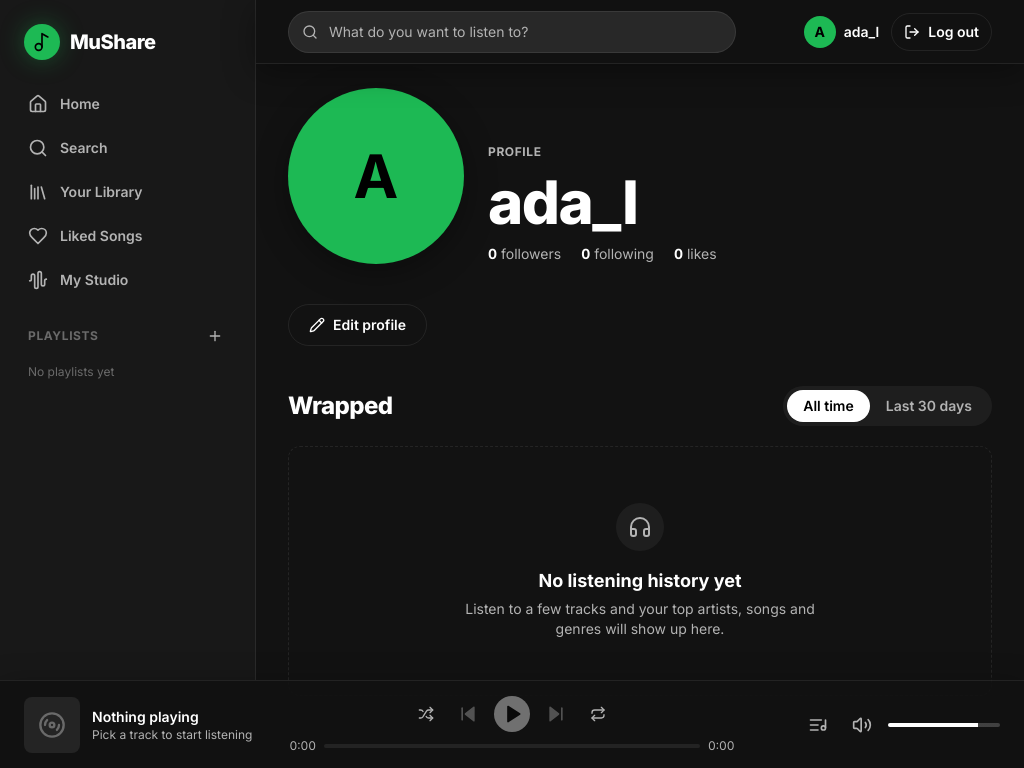
Scenario: profile page › edits bio and picture, and updates the top bar avatar
Click the button "Edit profile" at (358, 325), box [288,304,427,346]
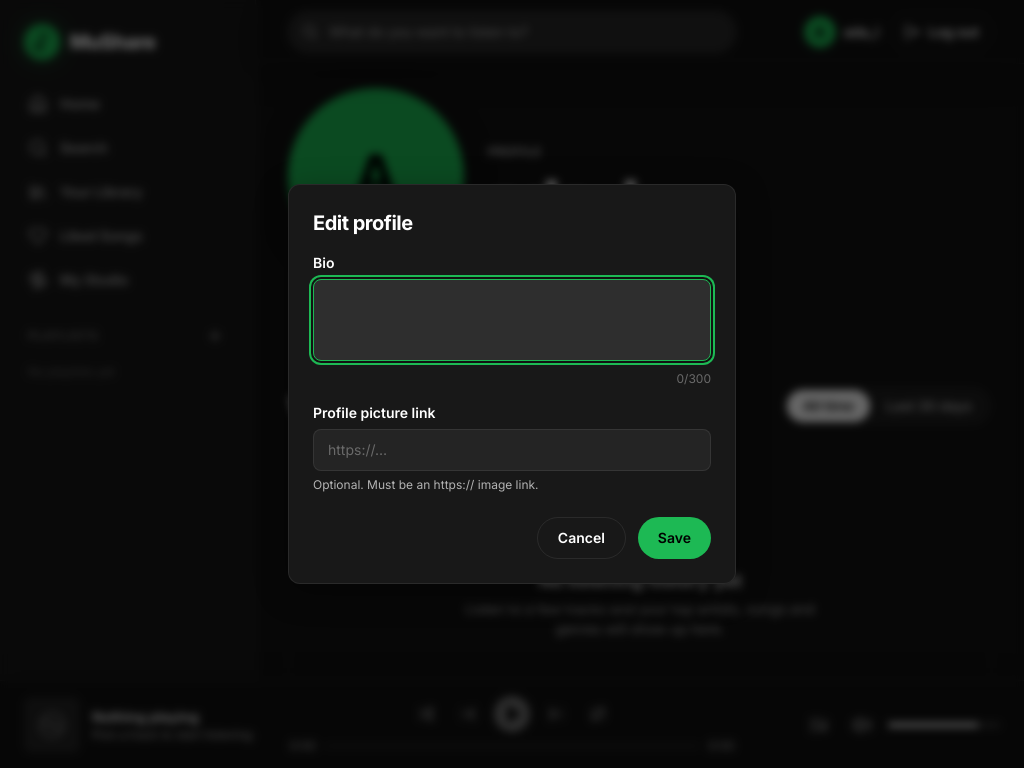
Type "Synth enjoyer" into the text box labelled "Bio" at (512, 320), box [313,279,711,361]
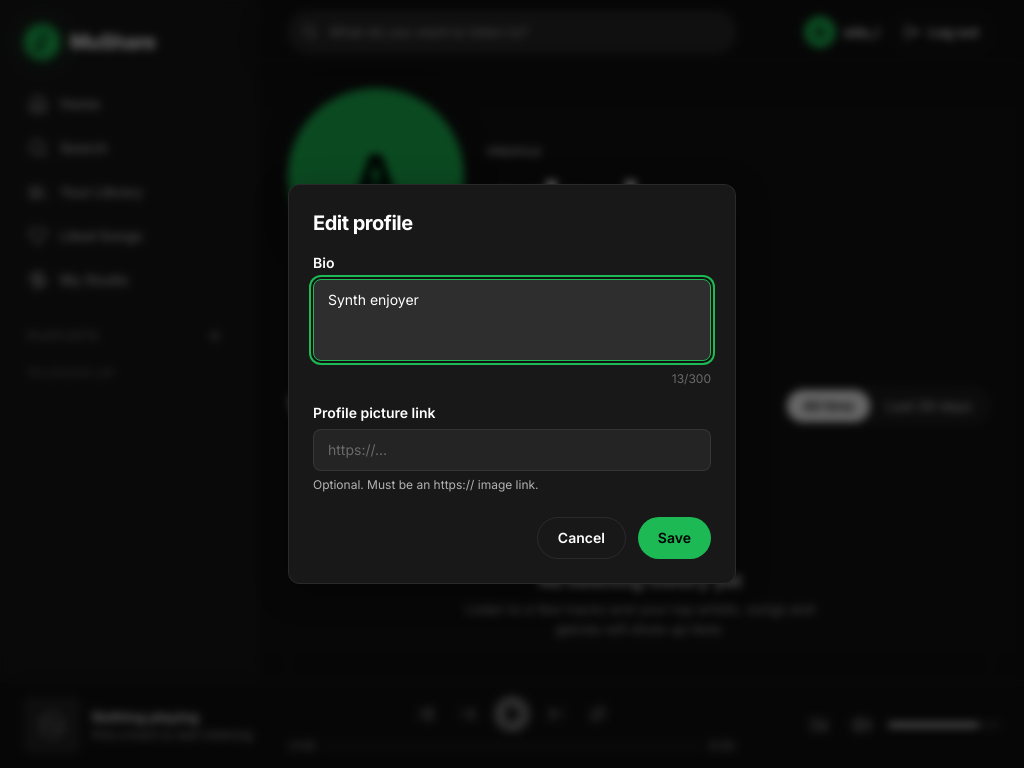
Type "https://img.example/me.png" into the field labelled "Profile picture link" at (512, 450), box [313,429,711,471]
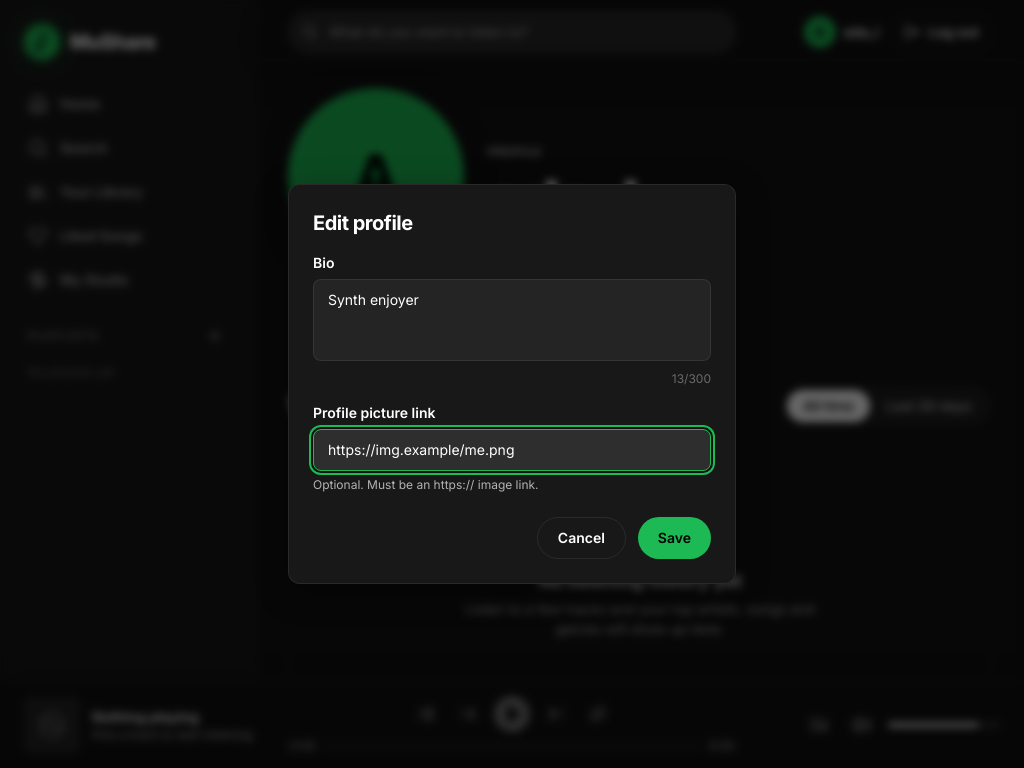
Click the button "Save" at (674, 538), box [638,517,711,559]
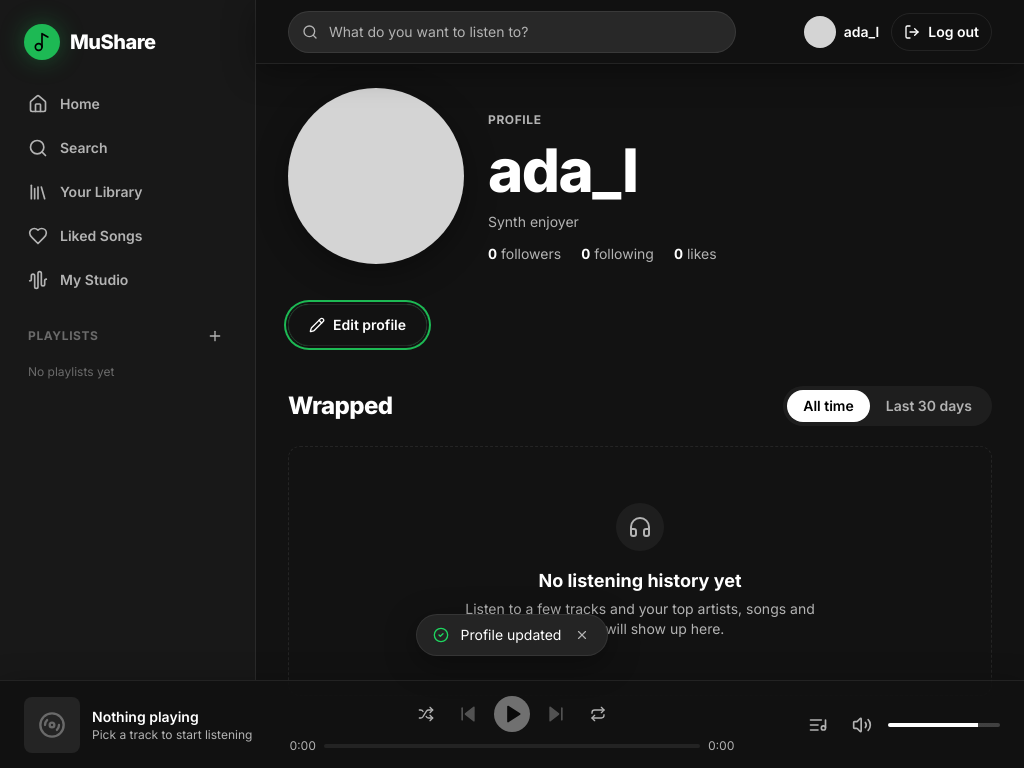
Expected: the text "Synth enjoyer" is shown, [488,213,579,230]
Expected: the dialog is gone
